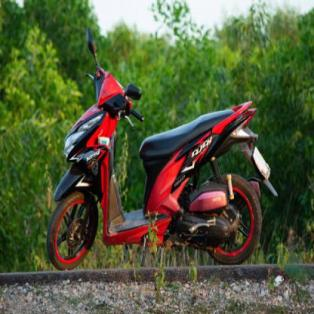Motocicleta: (44, 32, 280, 274)
